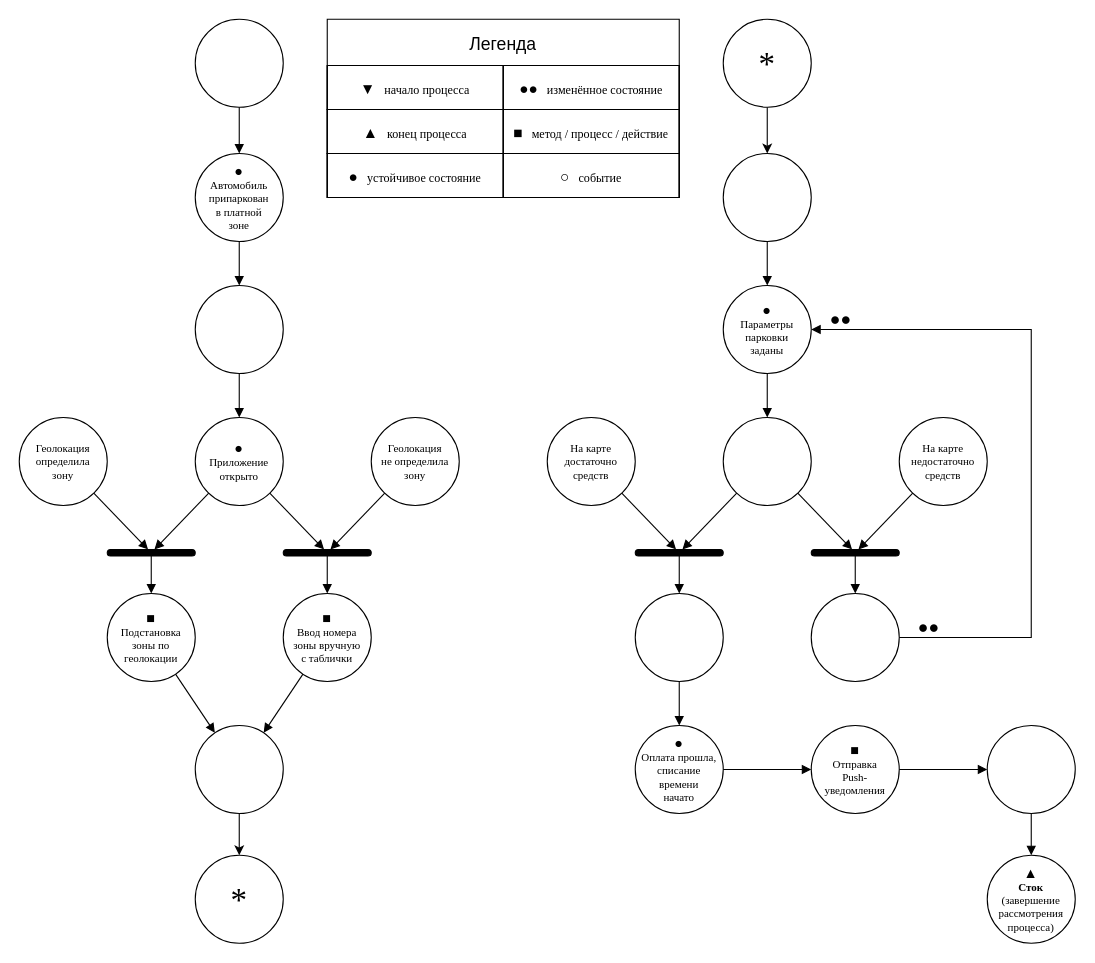
The diagram is 1095 pixels wide and 963 high, and some of its shapes have lost their labels. The shapes that lost their labels are listed below. From the top down, each one's centre as x and y in pixels, then its label:
the point at 238,62: ▼ Исток (начало рассмотрения процесса)
the point at 766,196: ■ Выбор автомобиля и длительности стоянки
the point at 238,328: ■ Запуск приложения «Парковки машин»
the point at 766,460: ■ Нажатие «Оплатить», отправка платежа
the point at 678,636: ■ Списание средств, регистрация сессии
the point at 854,636: ■ Пополнение счёта карты
the point at 238,768: ● Парковочная зона определена
the point at 1030,768: ● Push- уведомление получено
